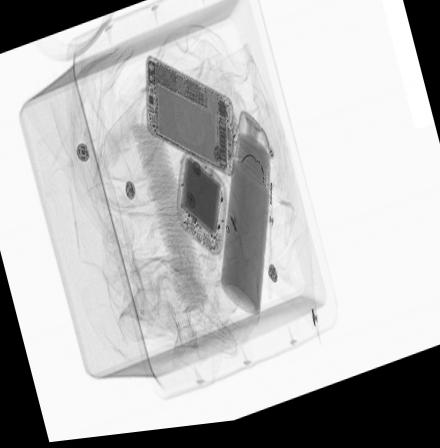Powerbank: (176, 150, 224, 262)
